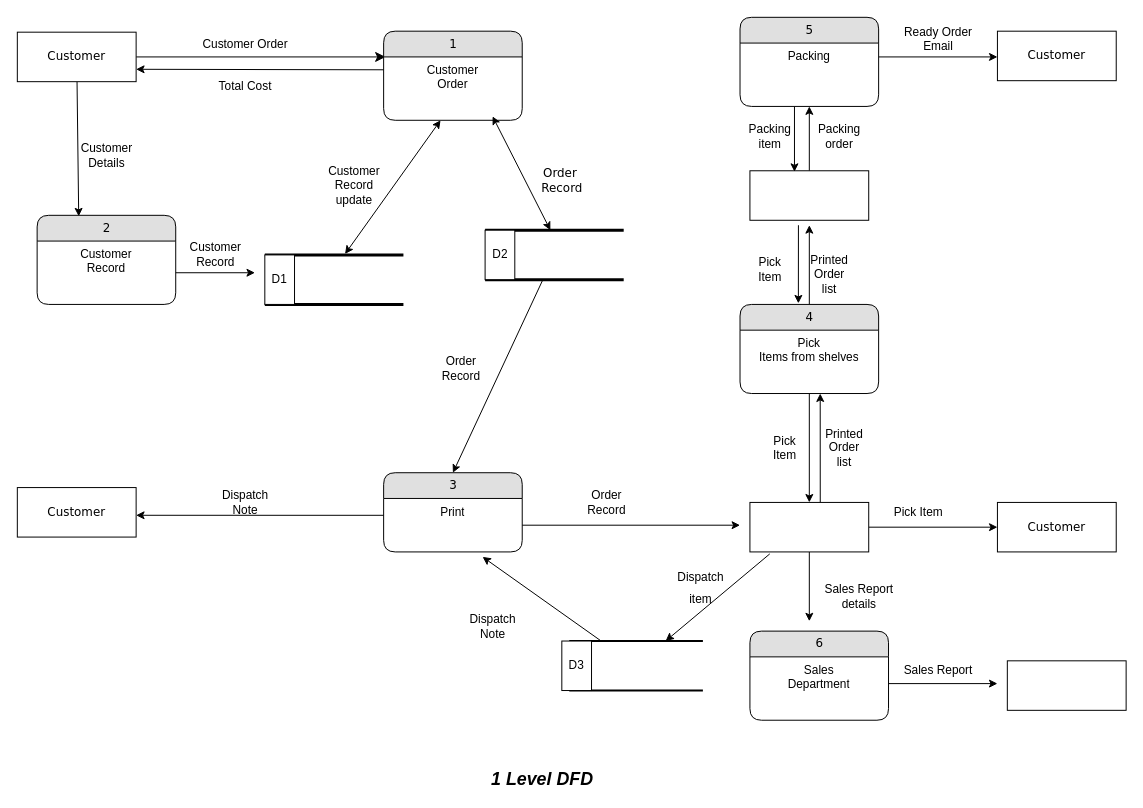
This 1143x808 diagram has some shape labels left out. The box of each missing label's shape, as (x1, y1, x2, y2) in pixels:
Customer Master File: (263, 253, 404, 305)
Dispatch Record File: (568, 640, 703, 691)
Local Store: (749, 501, 869, 552)
Local Store Manager: (1006, 660, 1126, 710)
Order Record File: (483, 228, 625, 281)
Saman Store Employee: (749, 170, 869, 220)
